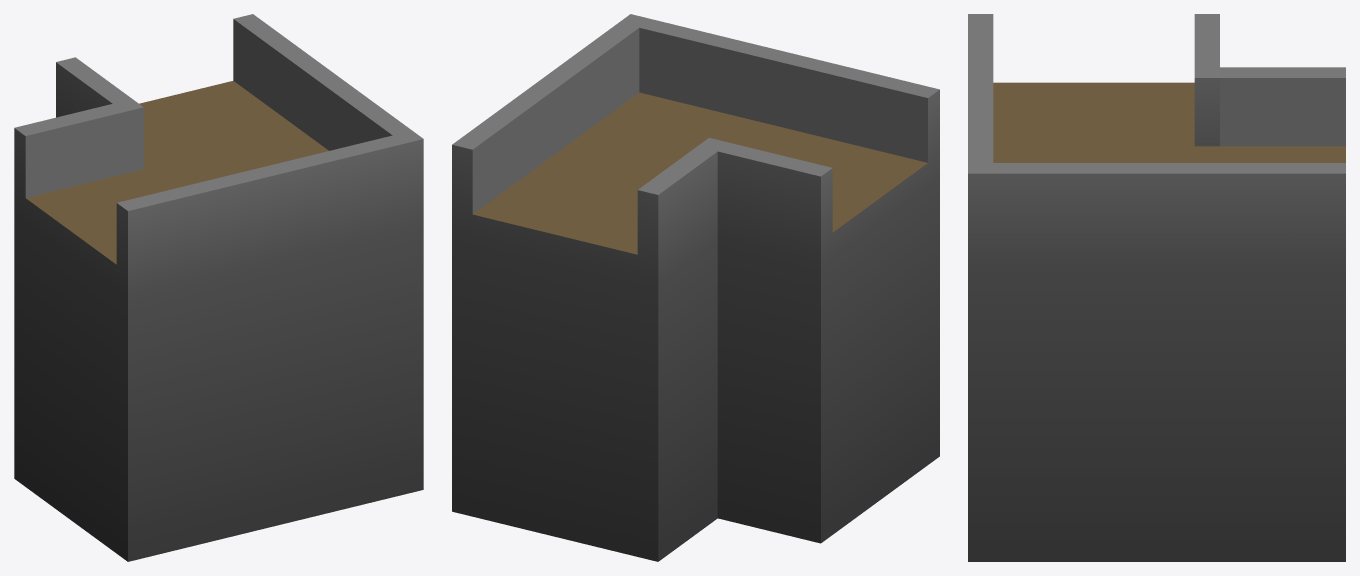
Rendered from corner1.FBX.
The picture shows the model from 3 angles, left to right: view 1: azimuth 30°, elevation 25°; view 2: azimuth 150°, elevation 25°; view 3: azimuth 270°, elevation 25°; orthographic projection. The views are drawn at different scales.
Parts seen in each view (by area): view 1: Box010; view 2: Box010; view 3: Box010.
Part boxes in pixels (left/top/right/bottom): Box010: left=14, top=14, right=423, bottom=561; Box010: left=452, top=14, right=939, bottom=561; Box010: left=968, top=14, right=1345, bottom=561.
Bounding box in the file's own units: 75 × 85 × 75.
